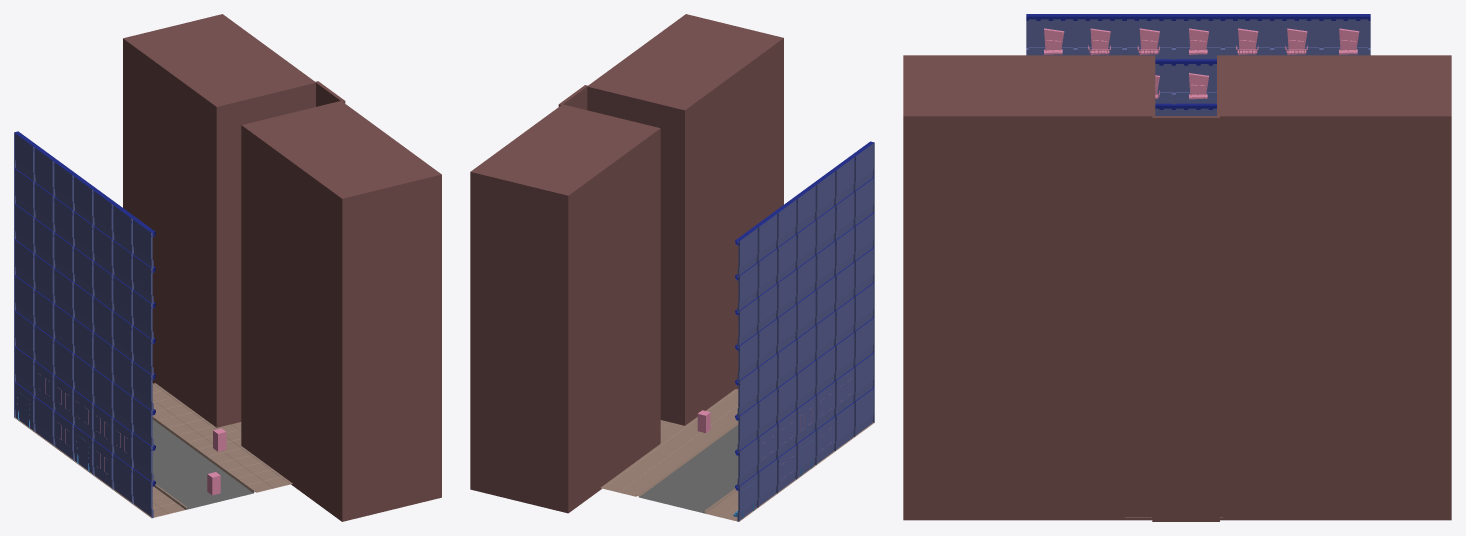
The model's file is Environment_Blocking.fbx.
The picture shows the model from 3 angles, left to right: view 1: azimuth 30°, elevation 25°; view 2: azimuth 150°, elevation 25°; view 3: azimuth 270°, elevation 25°; orthographic projection. The views are drawn at different scales.
Visible parts, largest first — view 1: Cube, Windows_Small.002, Windows_Small.004; view 2: Cube, Windows_Small.002, Windows_Small.004; view 3: Cube, Windows_Small.002.
Part boxes in pixels (bbox=[...]): Cube: bbox=[123, 14, 441, 521]; Windows_Small.002: bbox=[14, 131, 253, 518]; Windows_Small.004: bbox=[152, 383, 292, 492]; Cube: bbox=[470, 14, 783, 513]; Windows_Small.002: bbox=[639, 141, 874, 521]; Windows_Small.004: bbox=[600, 389, 738, 496]; Cube: bbox=[903, 55, 1451, 521]; Windows_Small.002: bbox=[1026, 14, 1370, 115].
Size of the model in its own units: 28.66 by 44.6 by 36.29.
